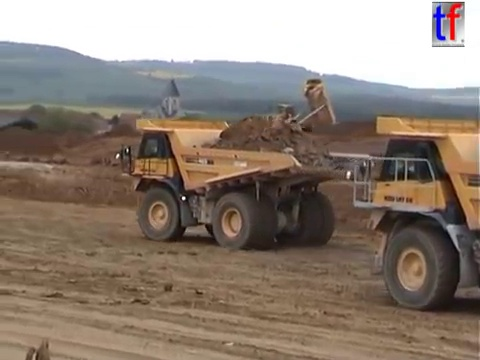truck: (113, 116, 375, 251), (343, 113, 480, 311), (272, 77, 338, 135)
